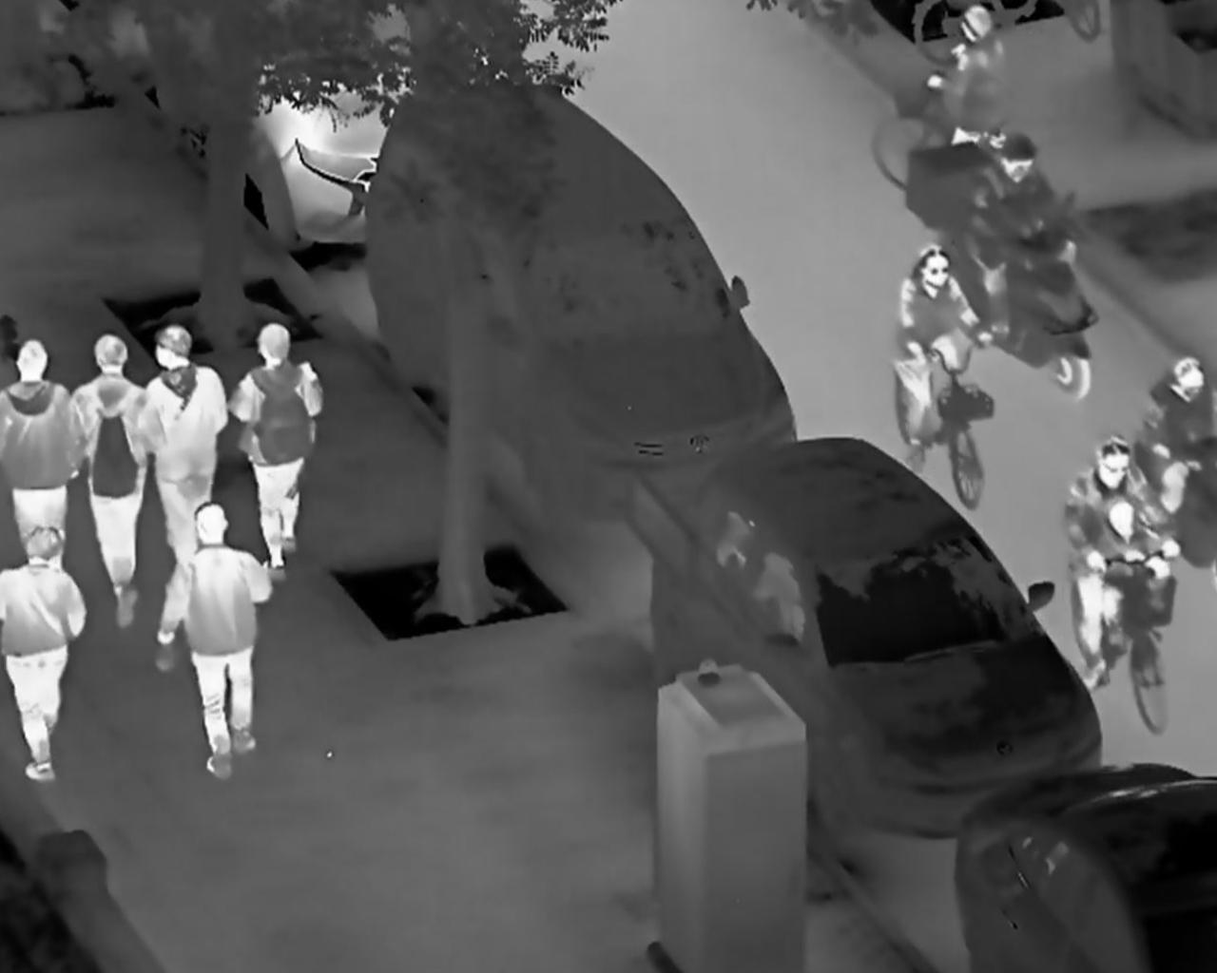person: (156, 499, 271, 779), (1063, 434, 1183, 690), (227, 320, 327, 586), (68, 334, 152, 631), (966, 132, 1082, 341), (892, 243, 996, 474), (143, 324, 224, 565), (1132, 356, 1217, 512), (928, 6, 1010, 148)
